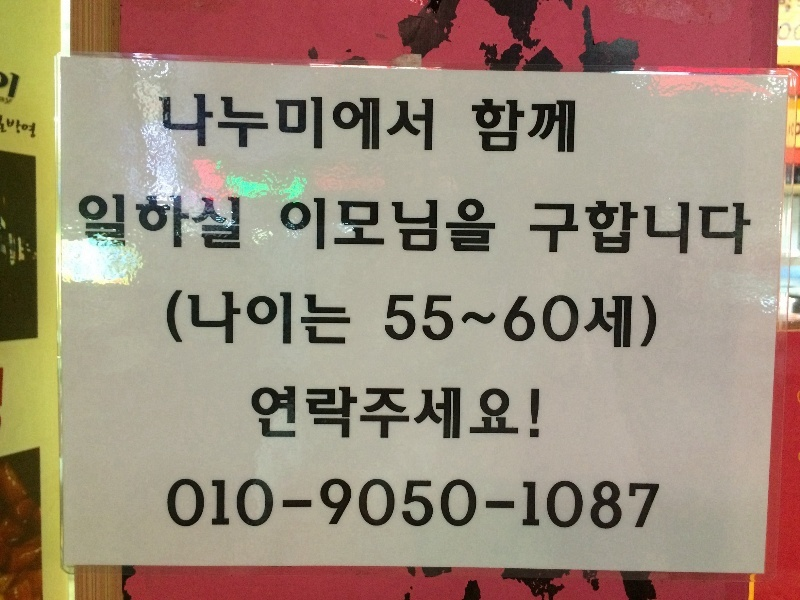text: (161, 84, 176, 164), (177, 84, 192, 164), (193, 84, 208, 164), (209, 84, 224, 164), (225, 84, 240, 164), (241, 84, 256, 164), (257, 84, 272, 164), (273, 84, 288, 164), (289, 84, 304, 164), (305, 84, 320, 164), (321, 84, 336, 164), (337, 84, 352, 164), (353, 84, 368, 164), (369, 84, 384, 164), (385, 84, 400, 164), (401, 84, 416, 164), (417, 84, 432, 164), (257, 378, 272, 458), (273, 378, 288, 458), (289, 378, 304, 458), (305, 378, 320, 458), (321, 378, 336, 458), (337, 378, 352, 458), (353, 378, 368, 458), (369, 378, 384, 458), (385, 378, 400, 458), (401, 378, 416, 458), (417, 378, 432, 458), (433, 378, 448, 458), (449, 378, 464, 458), (465, 378, 480, 458), (481, 378, 496, 458), (497, 378, 512, 458), (513, 378, 528, 458), (529, 378, 544, 458), (481, 94, 496, 171), (497, 94, 512, 171), (513, 94, 528, 171), (529, 94, 544, 171), (545, 94, 560, 171), (561, 94, 576, 171), (161, 283, 176, 360), (177, 283, 192, 360), (193, 283, 208, 360), (209, 283, 224, 360), (225, 283, 240, 360), (241, 283, 256, 360), (257, 283, 272, 360), (273, 283, 288, 360), (289, 283, 304, 360), (305, 283, 320, 360), (321, 283, 336, 360), (337, 283, 352, 360), (161, 465, 176, 542), (177, 465, 192, 542), (193, 465, 208, 542), (209, 465, 224, 542), (225, 465, 240, 542), (241, 465, 256, 542), (257, 465, 272, 542), (81, 185, 96, 261), (97, 185, 112, 261), (113, 185, 128, 261), (129, 185, 144, 261), (145, 185, 160, 261), (161, 185, 176, 261), (177, 185, 192, 261), (193, 185, 208, 261), (209, 185, 224, 261), (225, 185, 240, 261), (242, 378, 256, 458), (529, 190, 544, 264), (545, 190, 560, 264), (561, 190, 576, 264), (577, 190, 592, 264), (593, 190, 608, 264), (609, 190, 624, 264), (625, 190, 640, 264), (641, 190, 656, 264), (657, 190, 672, 264), (673, 190, 688, 264), (689, 190, 704, 264), (705, 190, 720, 264), (721, 190, 736, 264), (737, 190, 752, 264), (289, 194, 304, 265), (305, 194, 320, 265), (321, 194, 336, 265), (337, 194, 352, 265), (353, 194, 368, 265), (369, 194, 384, 265), (385, 194, 400, 265), (401, 194, 416, 265), (417, 194, 432, 265), (433, 194, 448, 265), (449, 194, 464, 265), (465, 194, 480, 265), (481, 194, 496, 265), (529, 473, 544, 540), (545, 473, 560, 540), (561, 473, 576, 540), (577, 473, 592, 540), (593, 473, 608, 540), (609, 473, 624, 540), (625, 473, 640, 540), (641, 473, 656, 540), (433, 84, 445, 164), (385, 291, 400, 353), (401, 291, 416, 353), (417, 291, 432, 353), (433, 291, 448, 353), (449, 291, 464, 353), (465, 291, 480, 353), (481, 291, 496, 353), (497, 291, 512, 353), (513, 291, 528, 353), (529, 291, 544, 353), (545, 291, 560, 353), (561, 291, 576, 353), (577, 291, 592, 353), (593, 291, 608, 353), (609, 291, 624, 353), (625, 291, 640, 353), (641, 291, 656, 353), (275, 194, 288, 265), (321, 475, 336, 536), (337, 475, 352, 536), (353, 475, 368, 536), (369, 475, 384, 536), (385, 475, 400, 536), (401, 475, 416, 536), (417, 475, 432, 536), (433, 475, 448, 536), (449, 475, 464, 536), (465, 475, 480, 536), (471, 94, 480, 171), (518, 473, 528, 540), (17, 229, 32, 270), (72, 185, 80, 261), (657, 473, 666, 540), (153, 84, 160, 164), (497, 488, 512, 525), (482, 488, 496, 525), (289, 491, 304, 524), (4, 229, 16, 270), (545, 378, 550, 458), (305, 491, 317, 524), (577, 94, 582, 171), (273, 465, 278, 542), (17, 116, 32, 141), (241, 185, 245, 261), (279, 491, 288, 524), (497, 194, 501, 265), (5, 116, 16, 141), (353, 283, 356, 360), (513, 488, 518, 525), (317, 475, 320, 536), (33, 229, 37, 270), (33, 116, 39, 141), (526, 190, 528, 264), (753, 190, 754, 264), (657, 291, 658, 353)
